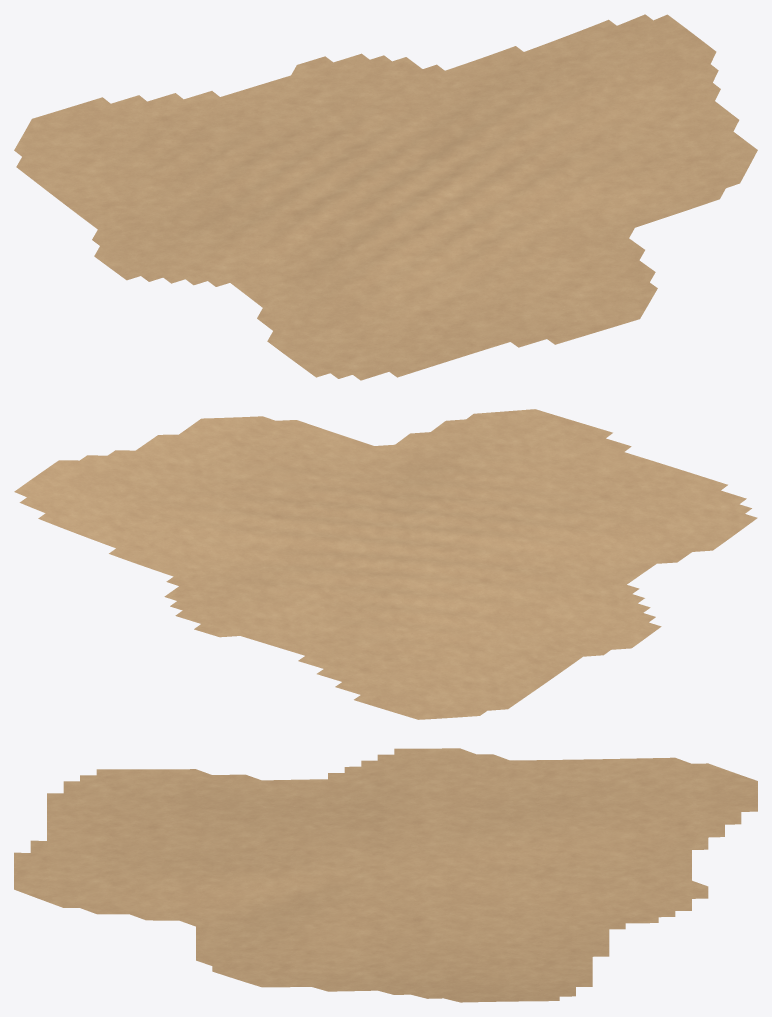
Rendered from sand_light_2.dae.
3 views of the same model, one above another, from view 1: azimuth 30°, elevation 25°; view 2: azimuth 150°, elevation 25°; view 3: azimuth 270°, elevation 25° (orthographic). The views are drawn at different scales.
Visible parts, largest first — view 1: sand_light_2; view 2: sand_light_2; view 3: sand_light_2.
Part boxes in pixels (x1,y1,x2,y2): sand_light_2: [14, 14, 757, 380]; sand_light_2: [14, 409, 757, 719]; sand_light_2: [14, 748, 757, 1002].
Bounding box in the file's own units: 11 × 11.25 × 0.9169.
1 material, 1 textured.
